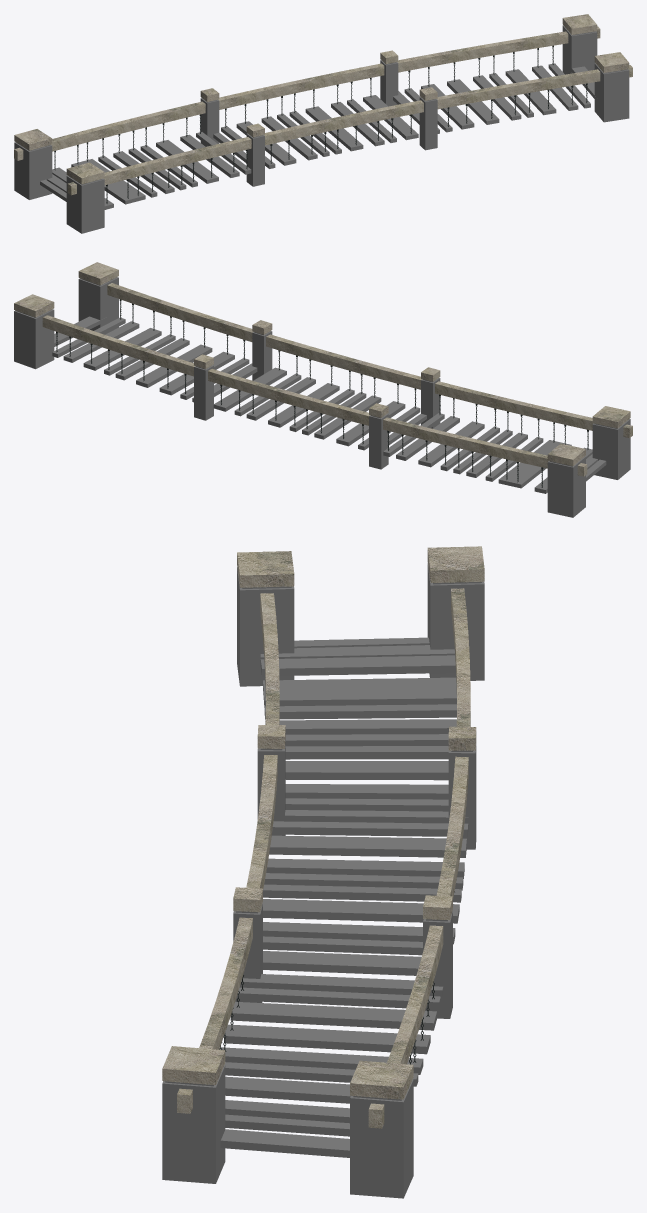
3 views of the same model, one above another, from view 1: azimuth 30°, elevation 25°; view 2: azimuth 150°, elevation 25°; view 3: azimuth 270°, elevation 25° (orthographic). The views are drawn at different scales.
Visible parts, largest first — view 1: Line02, Arc01, Shape04, Shape01, Shape03, Ellipse14, Shape06, Rectangle01; view 2: Line02, Arc01, Shape04, Shape01, Shape03, Ellipse14, Shape06; view 3: Line02, Shape04, Arc01, Shape03, Shape01, Shape06.
Boxes of the visible parts, box(x1,y1,x2,y2) form: Line02: box(40, 63, 597, 209); Arc01: box(51, 31, 600, 185); Shape04: box(14, 25, 629, 233); Shape01: box(200, 60, 437, 186); Shape03: box(14, 14, 629, 184); Ellipse14: box(54, 45, 587, 203); Shape06: box(200, 50, 437, 137); Rectangle01: box(14, 26, 632, 195); Line02: box(52, 316, 606, 493); Arc01: box(42, 283, 593, 468); Shape04: box(14, 277, 630, 517); Shape01: box(194, 331, 440, 469); Shape03: box(14, 262, 630, 465); Ellipse14: box(56, 299, 588, 487); Shape06: box(194, 320, 440, 417); Line02: box(220, 637, 468, 1157); Shape04: box(162, 563, 484, 1198); Arc01: box(199, 588, 470, 1064); Shape03: box(162, 546, 484, 1099); Shape01: box(233, 740, 476, 1018); Shape06: box(233, 725, 476, 920).
Size of the model in its own units: 242717 by 22860 by 60065.
